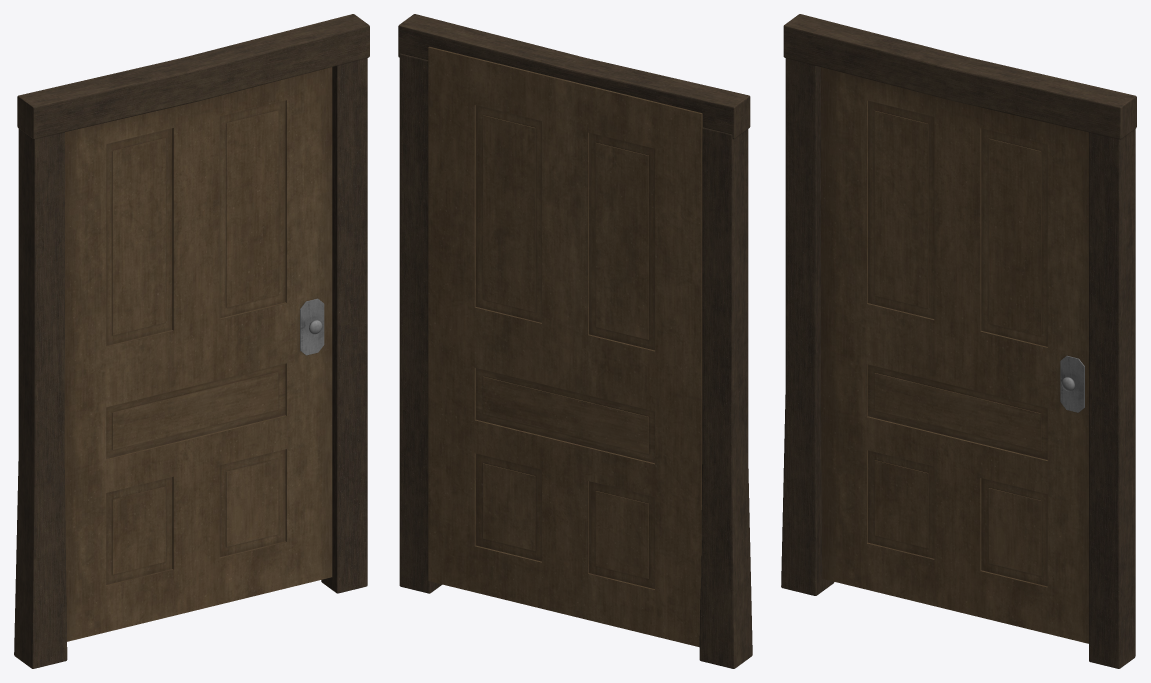
File: wild_west_theme_basic_door_with_frame.glb
3 renders of one model, left to right at view 1: azimuth 30°, elevation 25°; view 2: azimuth 150°, elevation 25°; view 3: azimuth 330°, elevation 25°, orthographic.
Visible parts, largest first — view 1: pasted__pCube9; view 2: pasted__pCube9; view 3: pasted__pCube9.
Boxes of the visible parts, x1,y1,x2,y2 form: pasted__pCube9: (14, 14, 369, 668); pasted__pCube9: (398, 14, 752, 668); pasted__pCube9: (781, 14, 1136, 668).
Size of the model in its own units: 143 by 226 by 13.87.
Materials: 3 (3 with a texture image).
